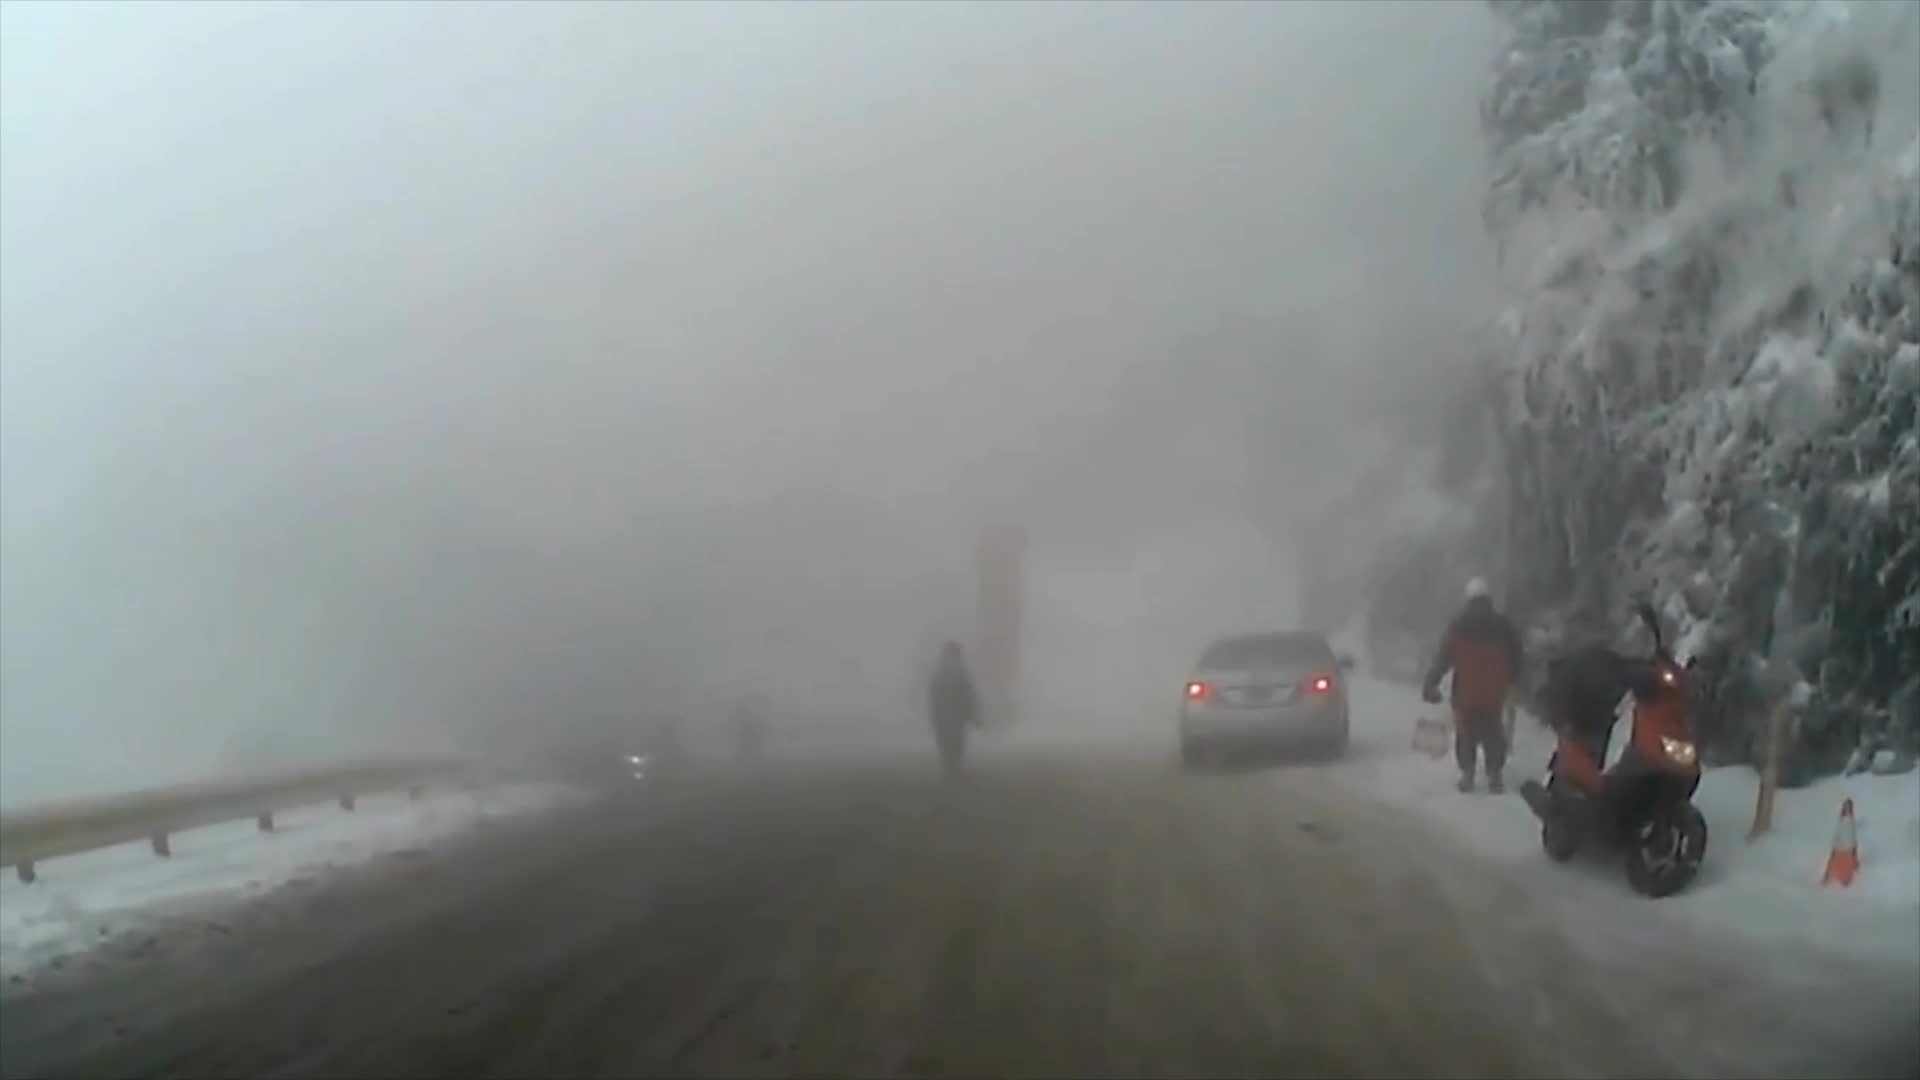pedestrian: (1420, 577, 1532, 800), (928, 640, 977, 789)
vehicle: (1180, 629, 1358, 772)
